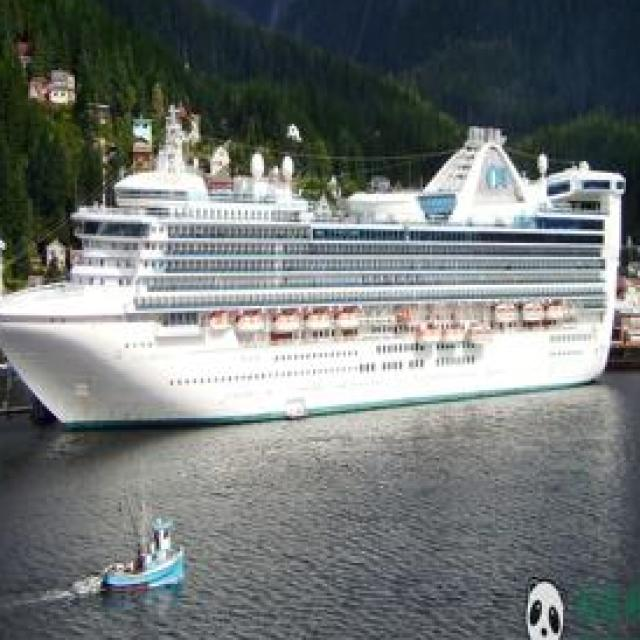fishing boat: (93, 496, 190, 592)
passenger ship: (0, 119, 640, 428)
